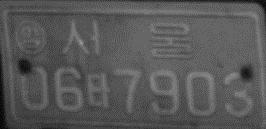0: (184, 70, 216, 118), (19, 64, 49, 112)
3: (222, 69, 253, 118)
6: (53, 65, 83, 112)
7: (112, 67, 141, 113)
9: (148, 68, 180, 115)
서울_D: (61, 19, 193, 59)
영: (14, 19, 48, 57)
타: (85, 71, 110, 109)
